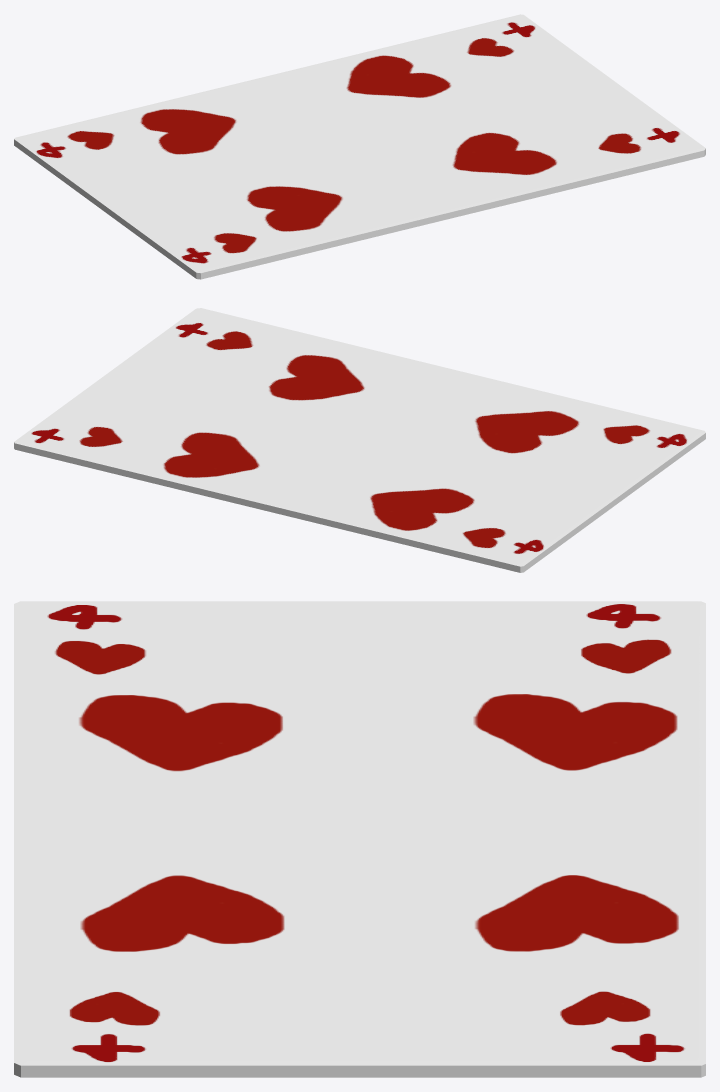
The model's file is 4_Hearts.fbx.
The picture shows the model from 3 angles, top to bottom: view 1: azimuth 30°, elevation 25°; view 2: azimuth 150°, elevation 25°; view 3: azimuth 270°, elevation 25°; orthographic projection. The views are drawn at different scales.
Visible parts, largest first — view 1: hearts4; view 2: hearts4; view 3: hearts4.
Part boxes in pixels (<box>): hearts4: <box>14,14,705,279</box>; hearts4: <box>14,308,705,572</box>; hearts4: <box>14,601,705,1077</box>.
Size of the model in its own units: 540 by 6.56 by 340.
